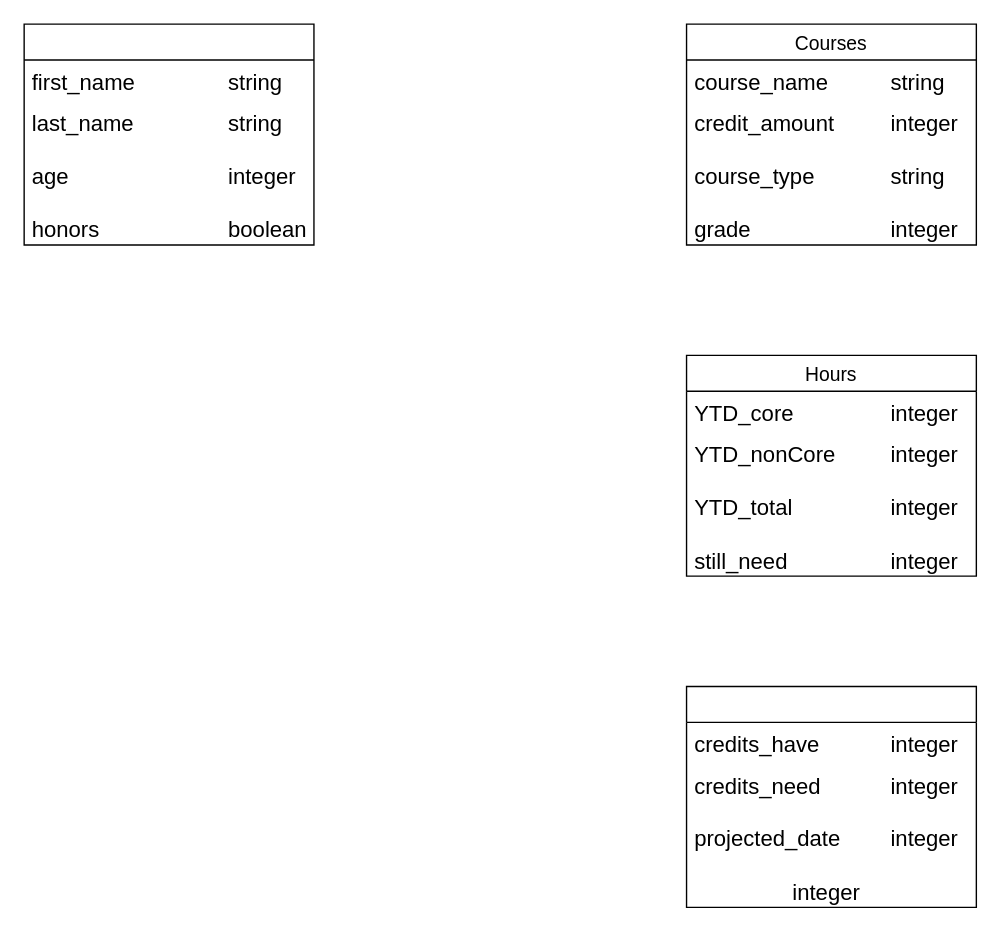
The diagram is 1001 pixels wide and 936 high, and some of its shapes have lost their labels. Each missing label, with the box of its shape:
Graduation: (685, 685, 976, 907)
Student: (23, 23, 314, 245)
